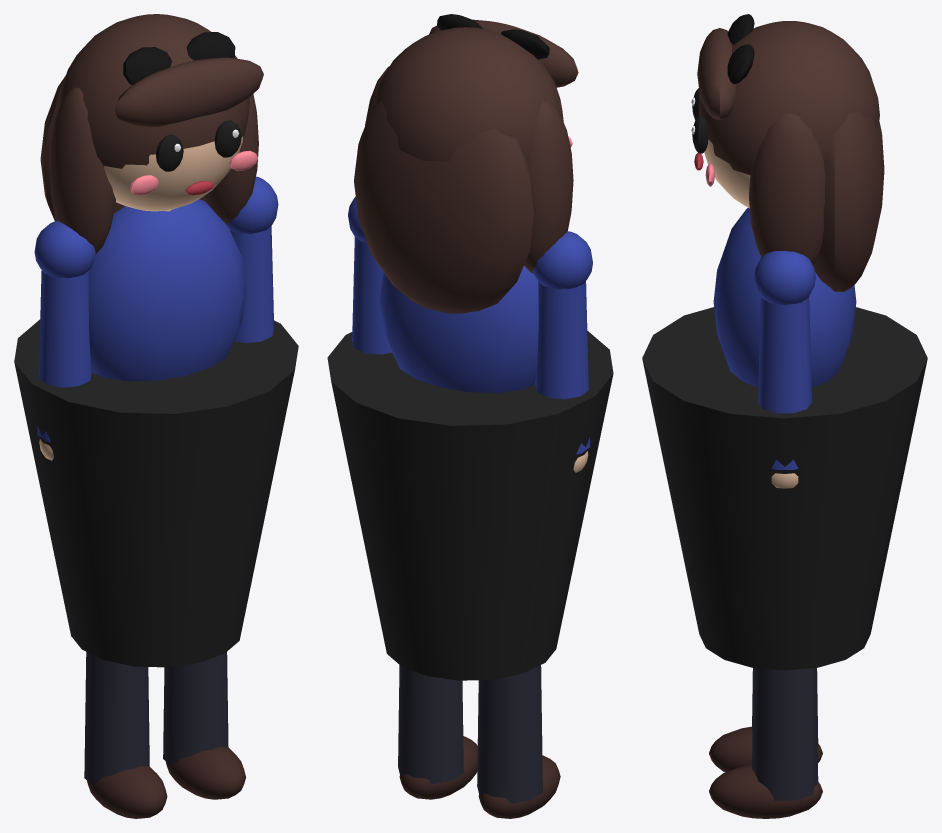
Rendered from town_mom.glb.
The picture shows the model from 3 angles, left to right: view 1: azimuth 30°, elevation 25°; view 2: azimuth 150°, elevation 25°; view 3: azimuth 270°, elevation 25°; orthographic projection.
Parts seen in each view (by area): view 1: Body.003, Leg_R.003, Leg_L.003, Arm_R.002, Arm_L.002; view 2: Body.003, Leg_R.003, Leg_L.003, Arm_R.002, Arm_L.002; view 3: Body.003, Leg_L.003, Arm_L.002, Leg_R.003.
Part boxes in pixels (box(x1,y1,x2,y2)): Body.003: box(14, 14, 298, 667); Leg_R.003: box(84, 652, 167, 818); Leg_L.003: box(163, 652, 245, 799); Arm_R.002: box(34, 221, 95, 460); Arm_L.002: box(227, 176, 278, 342); Body.003: box(327, 14, 613, 680); Leg_R.003: box(477, 665, 560, 818); Leg_L.003: box(398, 665, 477, 799); Arm_R.002: box(533, 231, 592, 472); Arm_L.002: box(348, 197, 392, 354); Body.003: box(642, 14, 927, 670); Leg_L.003: box(709, 668, 822, 818); Arm_L.002: box(754, 251, 815, 488); Leg_R.003: box(709, 668, 822, 772).
Size of the model in its own units: 0.6 by 1.78 by 0.6.
